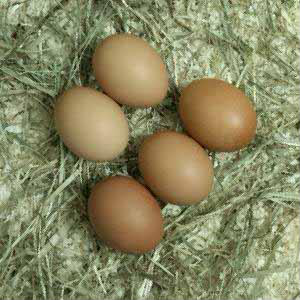egg: (88, 176, 165, 255), (93, 33, 169, 109), (179, 78, 256, 152), (55, 87, 130, 161), (138, 132, 213, 205)
